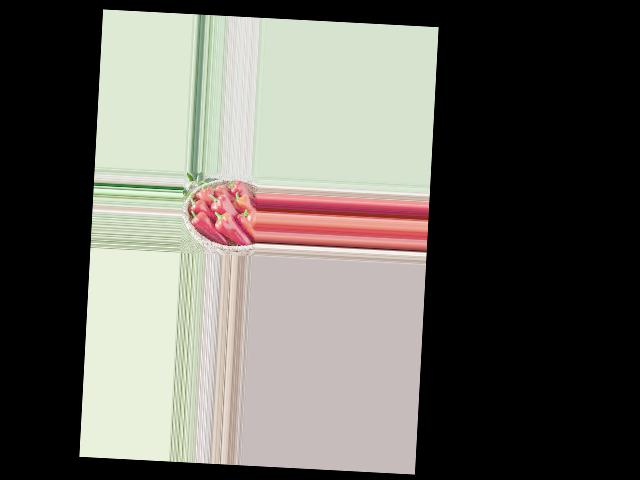bell_pepper: (187, 196, 208, 214)
